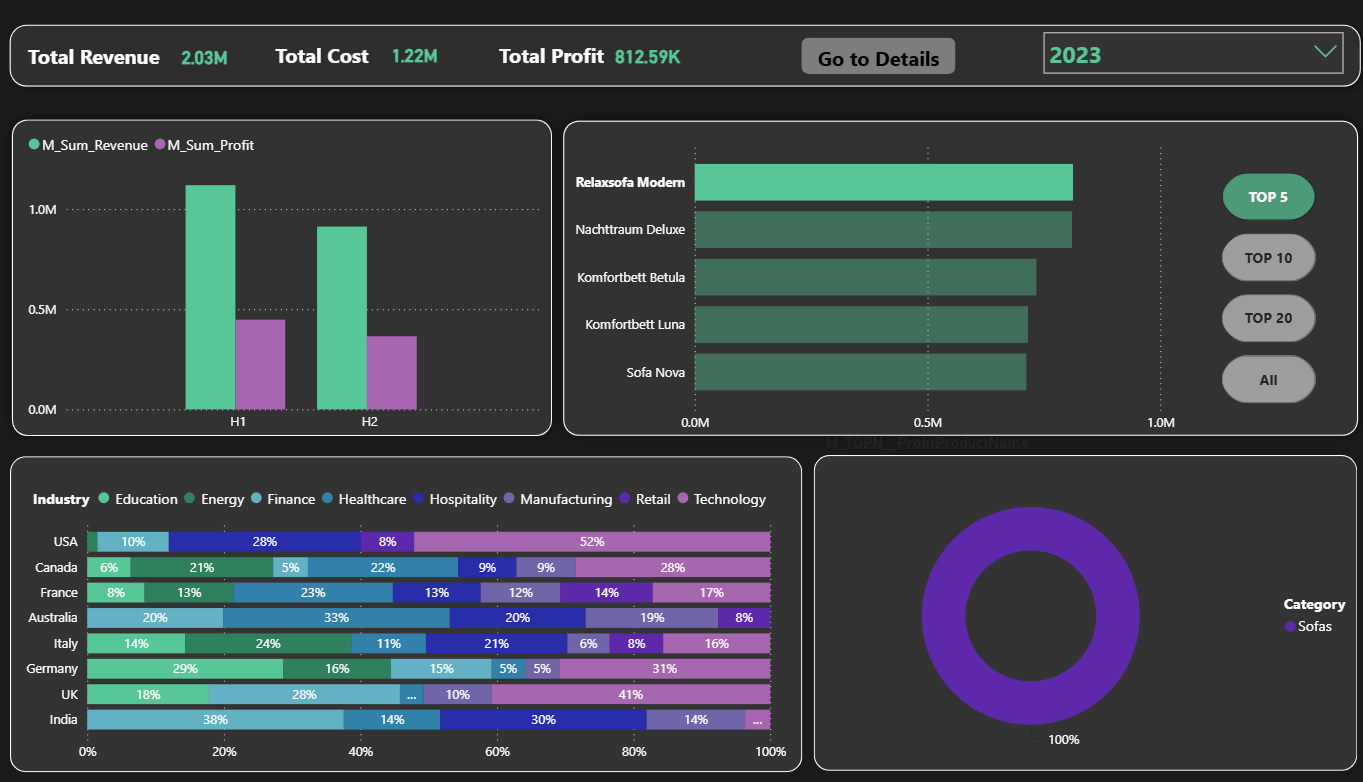

This screenshot's page, from the dashboard's own definition file:
{"tool":"powerbi","page":{"name":"Header","canvas":[1280,720],"ordinal":0},"visuals":[{"type":"shape","box":[9.1,411.5,739.9,295],"z":0},{"type":"shape","box":[1.4,87.1,524.3,315.7],"z":1000},{"type":"shape","box":[516.3,88.6,762.3,314.3],"z":2000},{"type":"shape","box":[759.5,411.4,507.6,294.9],"z":3000},{"type":"shape","box":[0,0,1279.8,75.9],"z":4000},{"type":"card","fields":{"Values":["ListOfMeasures.M_Sum_Cost"]},"box":[339.9,19.2,95,40.6],"z":5000},{"type":"card","fields":{"Values":["ListOfMeasures.M_Sum_Profit"]},"box":[546,16.5,117.2,47.2],"z":6000},{"type":"card","fields":{"Values":["ListOfMeasures.M_Sum_Revenue"]},"box":[138.2,22,106.7,36.7],"z":7000},{"type":"textbox","box":[252.7,20.1,122.5,40],"z":8000},{"type":"textbox","box":[21.5,20.5,140.5,37.2],"z":9000},{"type":"textbox","box":[461,20.1,122.5,40],"z":10000},{"type":"clusteredColumnChart","fields":{"Y":["ListOfMeasures.M_Sum_Revenue","ListOfMeasures.M_Sum_Profit"],"Category":["DimDate.HalfYearName Hierarchy.HalfYearName","DimDate.HalfYearName Hierarchy.QuarterName","DimDate.HalfYearName Hierarchy.MonthName"]},"box":[21.4,99.8,489,297.8],"z":11000},{"type":"clusteredBarChart","fields":{"Category":["DimProduct.ProductName"],"Y":["ListOfMeasures.M_TOPN__ProfitProductName"]},"box":[522.8,108.9,579.8,303.8],"z":12000},{"type":"hundredPercentStackedBarChart","fields":{"Category":["DimCustomers.Country"],"Y":["ListOfMeasures.M_Sum_Revenue"],"Series":["DimCustomers.Industry"]},"box":[12.1,431.2,727.8,275.4],"z":13000},{"type":"donutChart","fields":{"Category":["DimProduct.Category"],"Y":["ListOfMeasures.M_Sum_Profit"]},"box":[721.2,422,558.8,277.5],"z":14000},{"type":"slicer","fields":{"Values":["DimDate.Year_Date"]},"box":[963.8,6.3,300,55.7],"z":15000},{"type":"advancedSlicerVisual","fields":{"Values":["TopTBL.Value"]},"box":[1145.6,100,100,220.3],"z":16000},{"type":"actionButton","box":[748.1,21.5,144.3,34.2],"z":17000}]}

Visuals, with their boxes in screenshot pixels (x1, y1, x2, y2), scaled from the page's 1280x720 canvas onto the 1363x782 screenshot:
shape: (left=10, top=447, right=798, bottom=767)
shape: (left=1, top=95, right=560, bottom=437)
shape: (left=550, top=96, right=1362, bottom=438)
shape: (left=809, top=447, right=1349, bottom=767)
shape: (left=0, top=0, right=1362, bottom=82)
card - ListOfMeasures.M_Sum_Cost: (left=362, top=21, right=463, bottom=65)
card - ListOfMeasures.M_Sum_Profit: (left=581, top=18, right=706, bottom=69)
card - ListOfMeasures.M_Sum_Revenue: (left=147, top=24, right=261, bottom=64)
textbox: (left=269, top=22, right=400, bottom=65)
textbox: (left=23, top=22, right=173, bottom=63)
textbox: (left=491, top=22, right=621, bottom=65)
clusteredColumnChart - ListOfMeasures.M_Sum_Revenue x ListOfMeasures.M_Sum_Profit: (left=23, top=108, right=543, bottom=432)
clusteredBarChart - DimProduct.ProductName x ListOfMeasures.M_TOPN__ProfitProductName: (left=557, top=118, right=1174, bottom=448)
hundredPercentStackedBarChart - DimCustomers.Country x ListOfMeasures.M_Sum_Revenue: (left=13, top=468, right=788, bottom=767)
donutChart - DimProduct.Category x ListOfMeasures.M_Sum_Profit: (left=768, top=458, right=1362, bottom=760)
slicer - DimDate.Year_Date: (left=1026, top=7, right=1346, bottom=67)
advancedSlicerVisual - TopTBL.Value: (left=1220, top=109, right=1326, bottom=348)
actionButton: (left=797, top=23, right=950, bottom=60)
